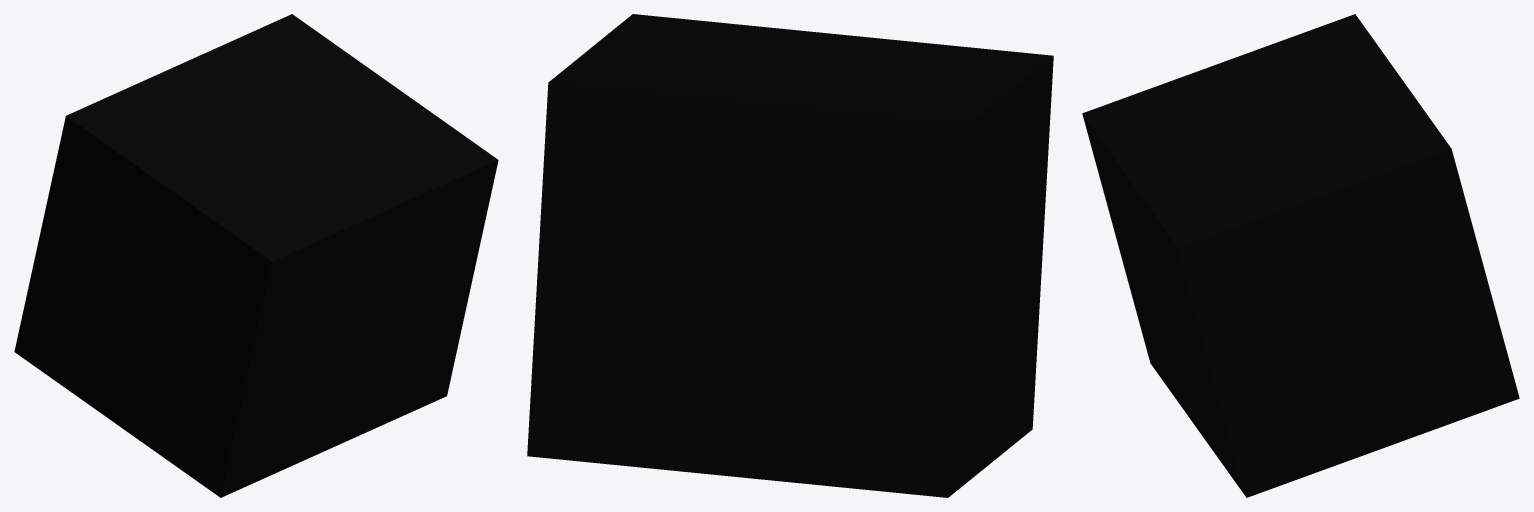
3 views of the same model, side by side, from view 1: azimuth 30°, elevation 25°; view 2: azimuth 150°, elevation 25°; view 3: azimuth 270°, elevation 25° (orthographic). The views are drawn at different scales.
Visible parts, largest first — view 1: mesh_id27; view 2: mesh_id27; view 3: mesh_id27.
Boxes of the visible parts, box(x1,y1,x2,y2) form: mesh_id27: box(14, 14, 498, 497); mesh_id27: box(527, 14, 1053, 497); mesh_id27: box(1082, 14, 1519, 497).
Size of the model in its own units: 0.2639 by 0.223 by 0.2737.
Materials: 1 (1 with a texture image).
